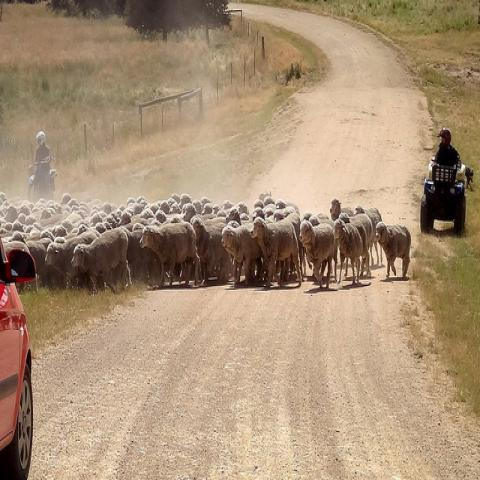car: (0, 232, 38, 480)
motorcycle: (28, 159, 58, 202)
